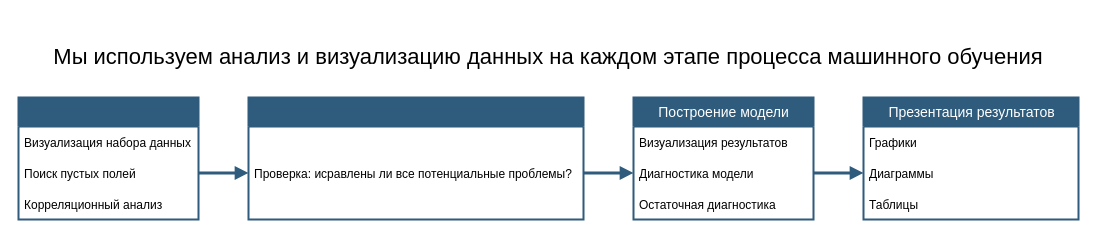
The diagram is 1096 pixels wide and 237 high, and some of its shapes have lost their labels. Here are the shapes that lost their labels. From the top down, the box of each, then its label:
(17, 96, 199, 220): Исследование данных
(247, 96, 584, 220): Очистка данных
